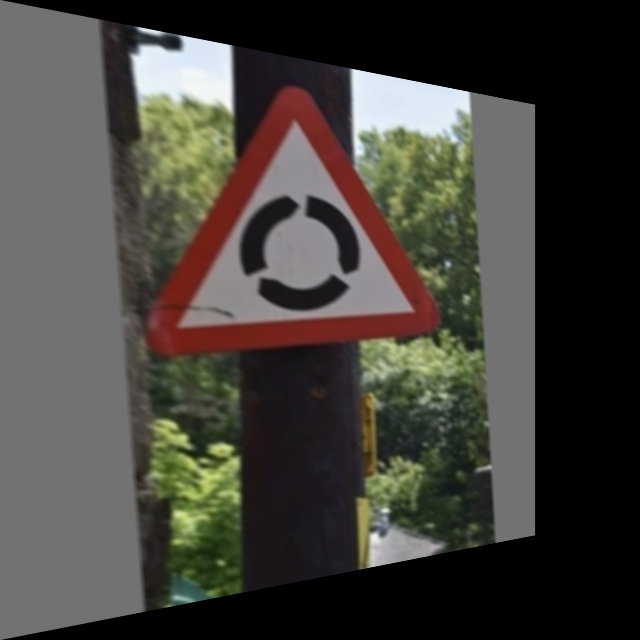Round_About: (136, 42, 436, 352)
